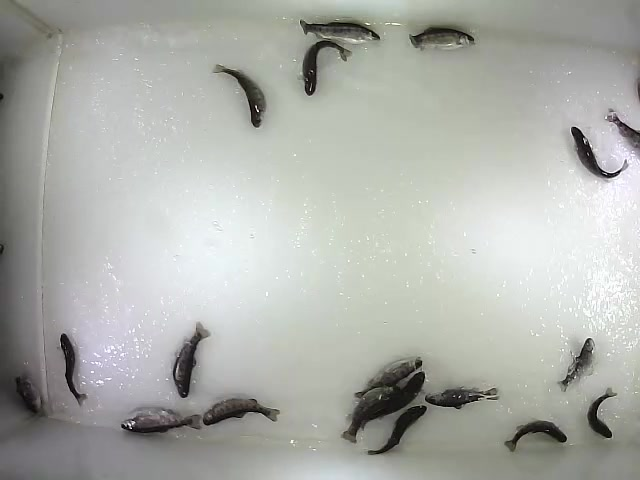fish: (357, 370, 427, 431), (210, 62, 269, 130), (339, 386, 400, 446), (296, 39, 353, 99), (570, 125, 630, 181), (171, 320, 212, 401), (351, 354, 423, 399), (365, 406, 429, 456), (555, 336, 598, 394), (59, 331, 90, 409), (297, 17, 383, 45), (118, 407, 203, 435), (202, 397, 281, 426), (503, 419, 568, 453), (407, 24, 477, 53), (424, 385, 500, 411), (587, 386, 618, 440)
